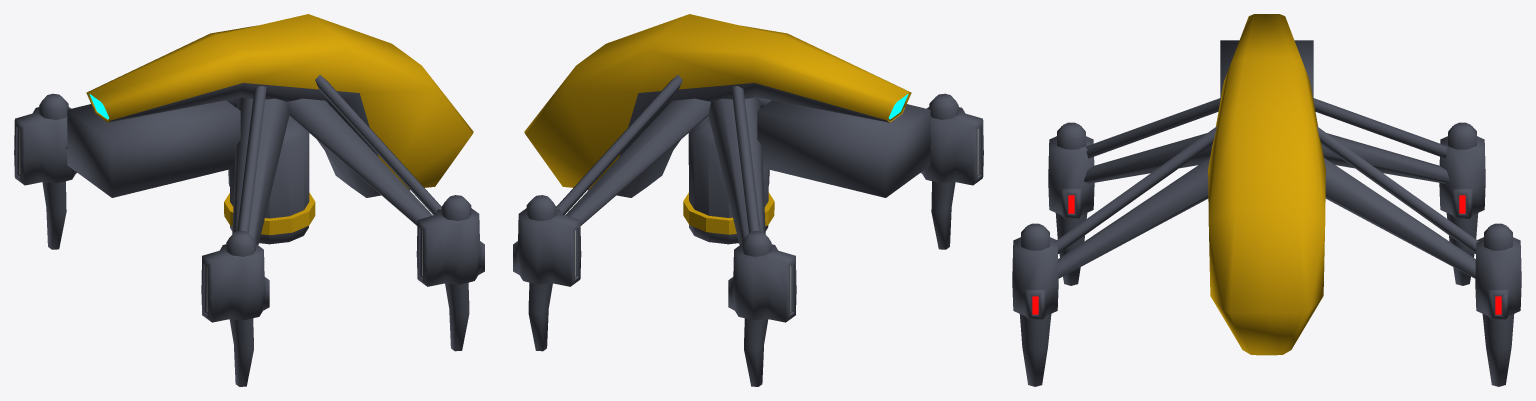
The model's file is Drone.fbx.
3 views of the same model, side by side, from view 1: azimuth 30°, elevation 25°; view 2: azimuth 150°, elevation 25°; view 3: azimuth 270°, elevation 25° (orthographic). The views are drawn at different scales.
Visible parts, largest first — view 1: Drone; view 2: Drone; view 3: Drone.
Part boxes in pixels (x1,y1,x2,y2): Drone: (14,14,484,386); Drone: (513,14,983,386); Drone: (1012,14,1521,386).
Size of the model in its own units: 4.65 by 3.08 by 5.35.
